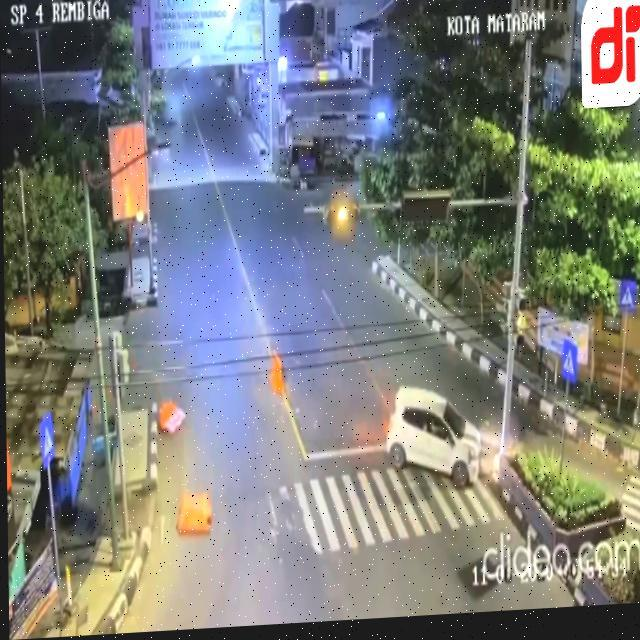single accident: (337, 355, 572, 530)
